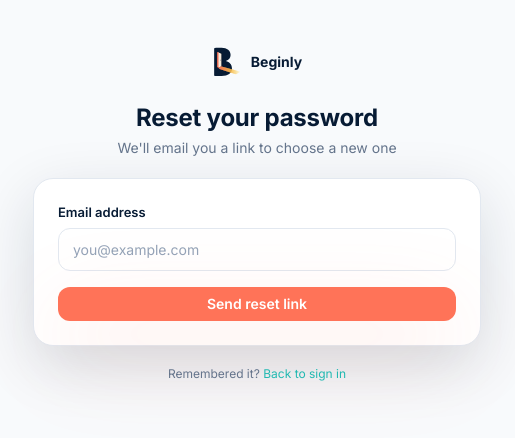
it: ForgotPasswordPage › shows the Supabase error inline and does not show the success state
Type "user@example.com" into the field with placeholder "you@example.com" at (257, 249), box [58,228,456,271]
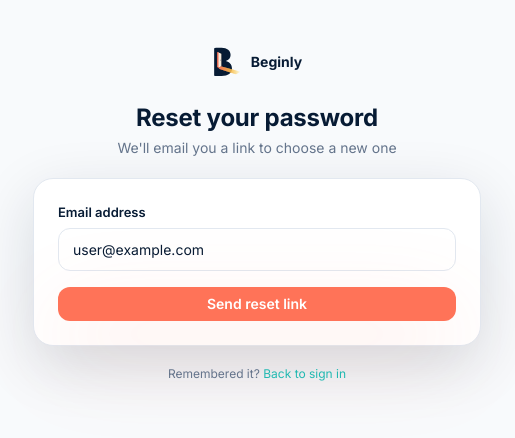
Click the button "Send reset link" at (257, 304), box [58,287,456,321]
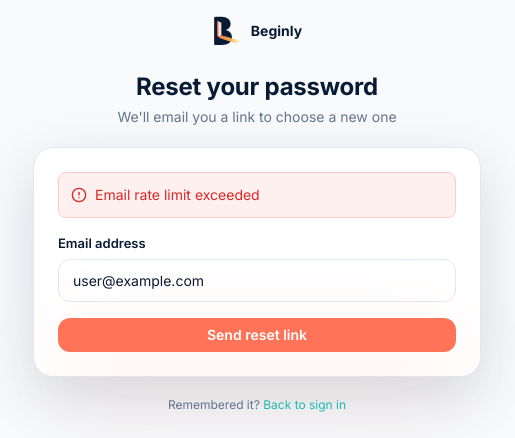
Expected: the text "Email rate limit exceeded" is shown, [58,172,456,218]
